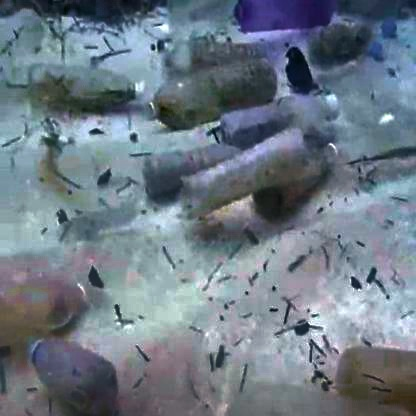pbottle: (8, 333, 144, 416), (211, 80, 361, 154), (140, 46, 283, 119), (42, 38, 159, 112), (11, 266, 117, 342), (332, 334, 416, 414), (203, 142, 305, 203), (311, 4, 392, 73), (148, 132, 249, 184), (235, 1, 337, 35)
